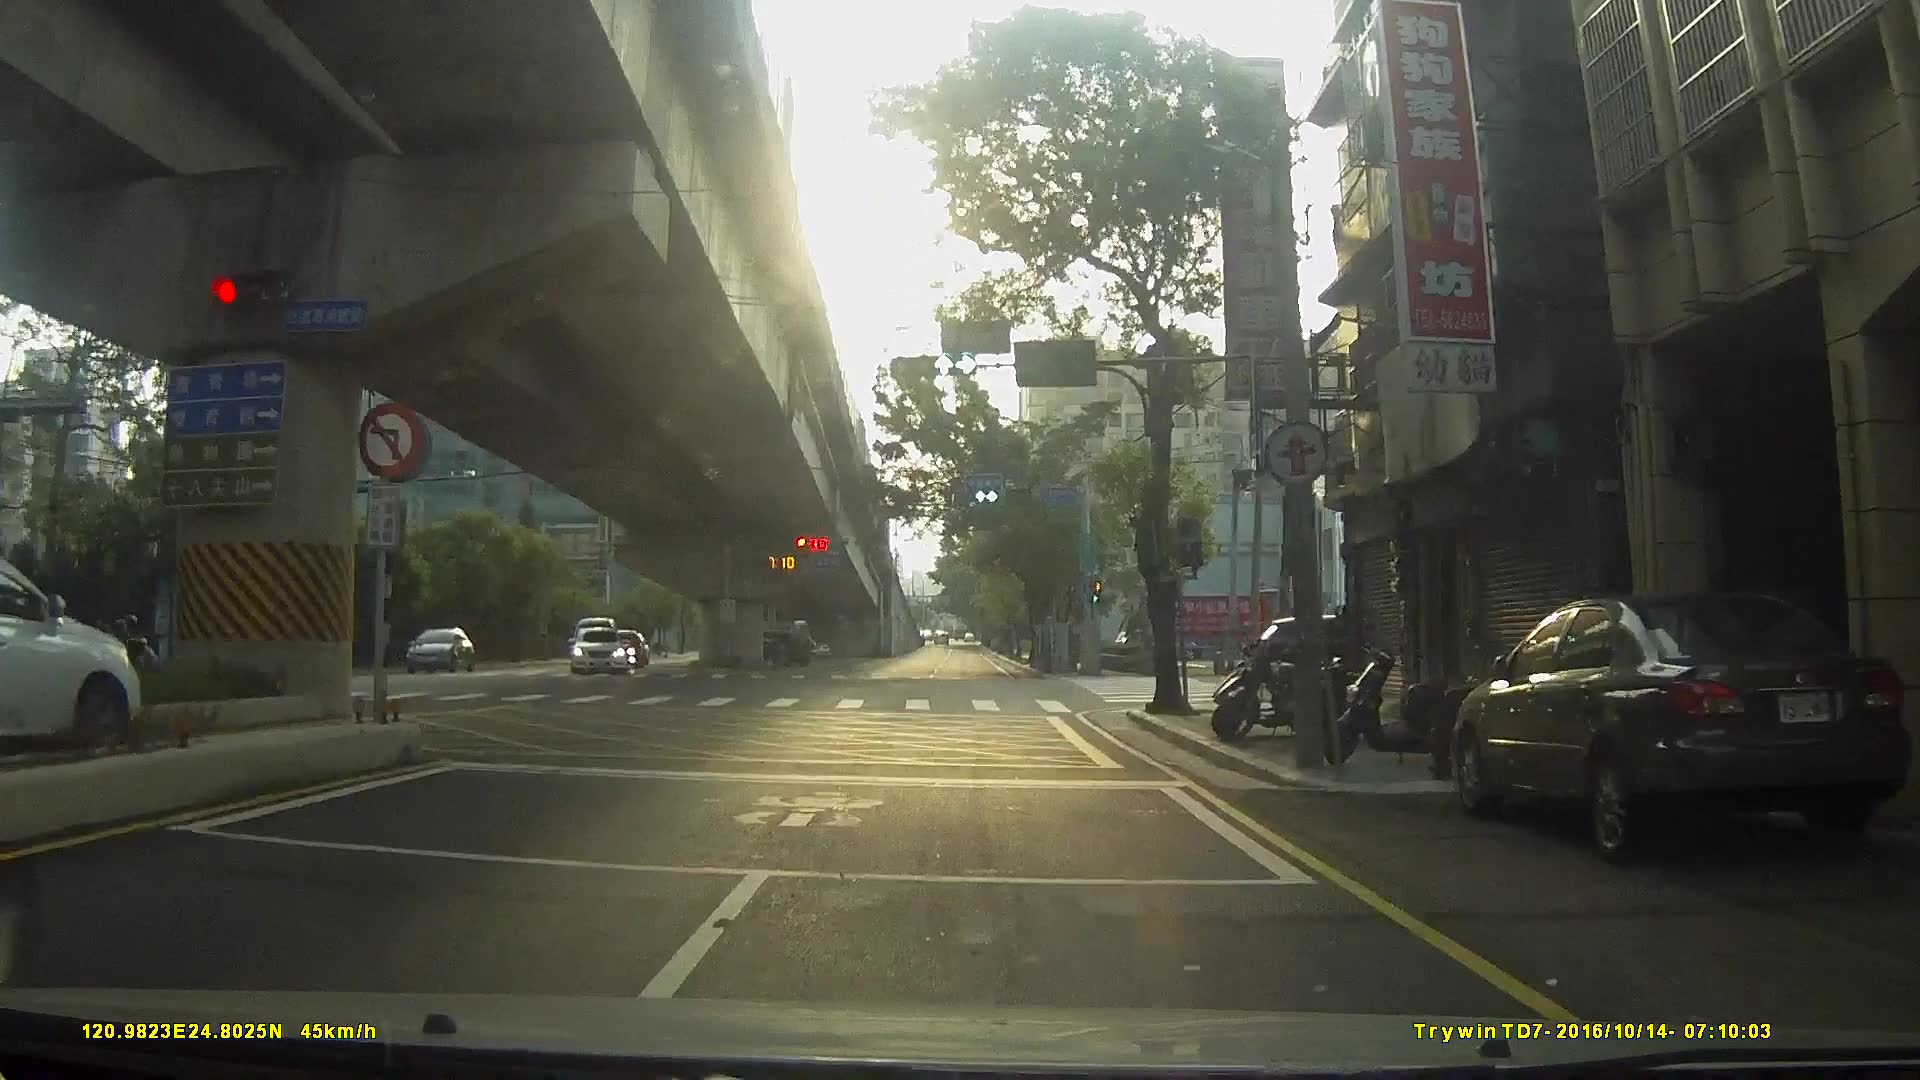vehicle: (1433, 578, 1900, 876), (1, 556, 164, 760), (396, 624, 469, 674), (564, 625, 626, 675), (742, 626, 814, 670)
